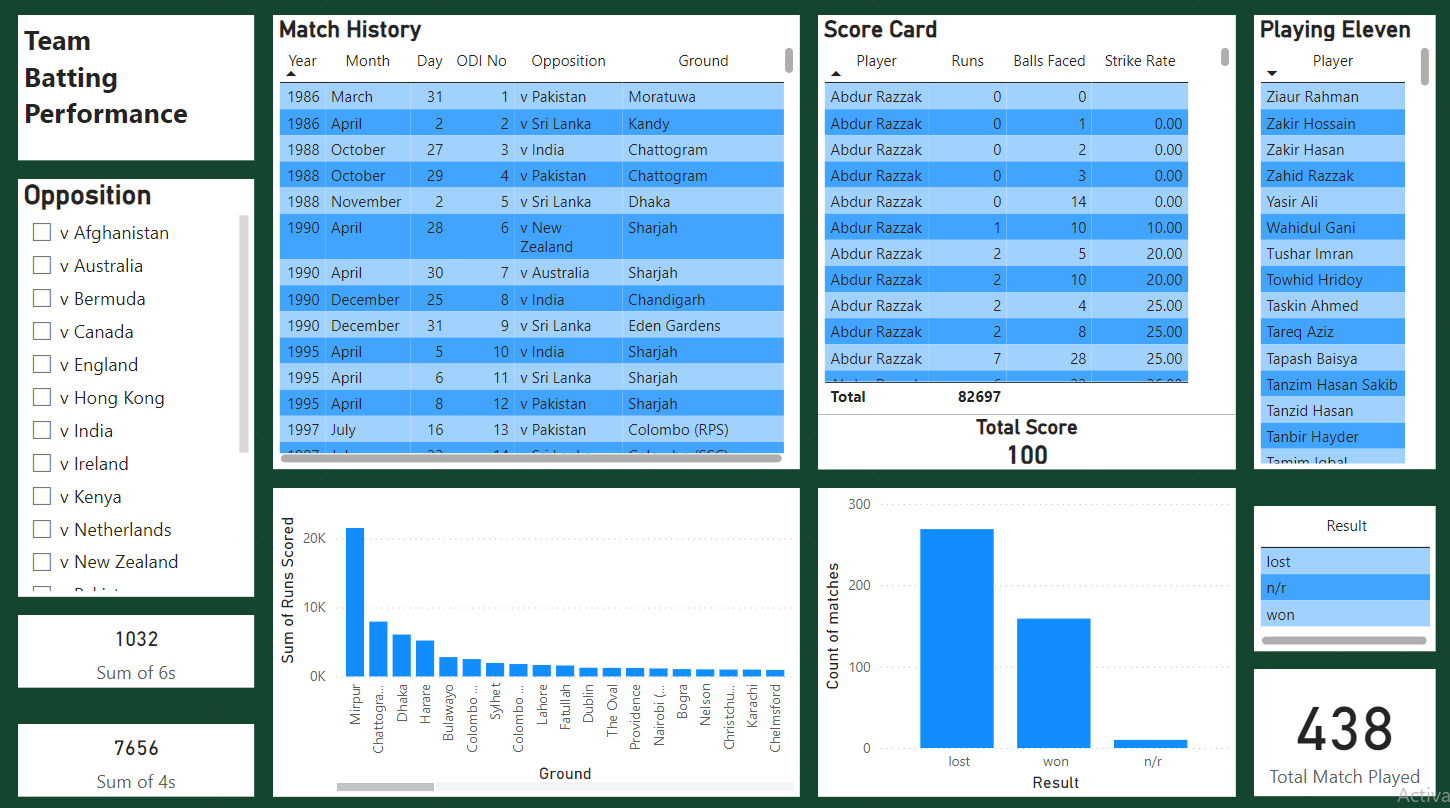

Layout of this report page (visuals, bound fields, positions):
{"tool":"powerbi","page":{"name":"Team Batting","canvas":[1280,720],"ordinal":2},"visuals":[{"type":"slicer","title":"Opposition","fields":{"Values":["All innings batting Stat team.Opposition"]},"box":[16,160,208,368],"z":0},{"type":"tableEx","title":"Match History","fields":{"Values":["All innings batting Stat team.Start Date.Variation.Date Hierarchy.Year","All innings batting Stat team.Start Date.Variation.Date Hierarchy.Month","All innings batting Stat team.Start Date.Variation.Date Hierarchy.Day","All innings batting Stat team.ODI No","All innings batting Stat team.Opposition","All innings batting Stat team.Ground"]},"box":[240,16,464,400],"z":1000},{"type":"tableEx","title":"Score Card","fields":{"Values":["All Innings individual batting.Player","All Innings individual batting.Runs in Individual Match","All Innings individual batting.BF","All Innings individual batting.SR"]},"box":[720,16,368,352],"z":2000},{"type":"tableEx","fields":{"Values":["All innings batting Stat team.Result"]},"box":[1104,448,160,128],"z":3000},{"type":"card","fields":{"Values":["All Innings individual batting.6s"]},"box":[16,544,208,64],"z":4000},{"type":"card","fields":{"Values":["All Innings individual batting.4s"]},"box":[16,640,208,64],"z":5000},{"type":"tableEx","title":"Playing Eleven","fields":{"Values":["All Innings individual batting.Player"]},"box":[1104,16,160,400],"z":6000},{"type":"card","title":"Total Score","fields":{"Values":["All innings batting Stat team.Score"]},"box":[720,368,368,48],"z":7000},{"type":"textbox","box":[16,16,208,128],"z":8000},{"type":"clusteredColumnChart","fields":{"Category":["All innings batting Stat team.Result"],"Y":["All innings batting Stat team.ODI No"]},"box":[720,432,368,272],"z":9000},{"type":"card","fields":{"Values":["All innings batting Stat team.ODI No"]},"box":[1104,592,160,112],"z":10000},{"type":"clusteredColumnChart","fields":{"Category":["All innings batting Stat team.Ground"],"Y":["All innings batting Stat team.Runs Scored"]},"box":[240,432,464,272],"z":11000}]}

Visuals, with their boxes in screenshot pixels (x1, y1, x2, y2), scaled from the page's 1280x720 canvas onto the 1450x808 screenshot:
"Opposition" slicer: <region>18, 180, 254, 593</region>
"Match History" tableEx: <region>272, 18, 798, 467</region>
"Score Card" tableEx: <region>816, 18, 1232, 413</region>
tableEx - All innings batting Stat team.Result: <region>1251, 503, 1432, 646</region>
card - All Innings individual batting.6s: <region>18, 610, 254, 682</region>
card - All Innings individual batting.4s: <region>18, 718, 254, 790</region>
"Playing Eleven" tableEx: <region>1251, 18, 1432, 467</region>
"Total Score" card: <region>816, 413, 1232, 467</region>
textbox: <region>18, 18, 254, 162</region>
clusteredColumnChart - All innings batting Stat team.Result x All innings batting Stat team.ODI No: <region>816, 485, 1232, 790</region>
card - All innings batting Stat team.ODI No: <region>1251, 664, 1432, 790</region>
clusteredColumnChart - All innings batting Stat team.Ground x All innings batting Stat team.Runs Scored: <region>272, 485, 798, 790</region>
